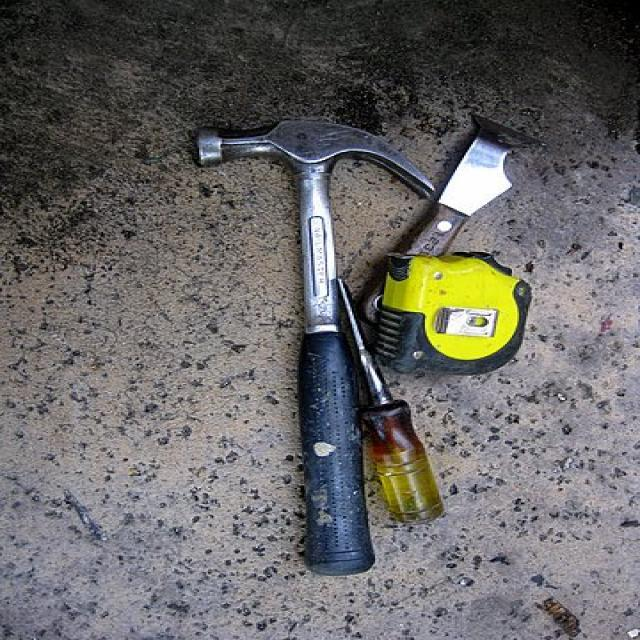hammer: (176, 108, 446, 586)
screwdriver: (324, 274, 444, 525)
